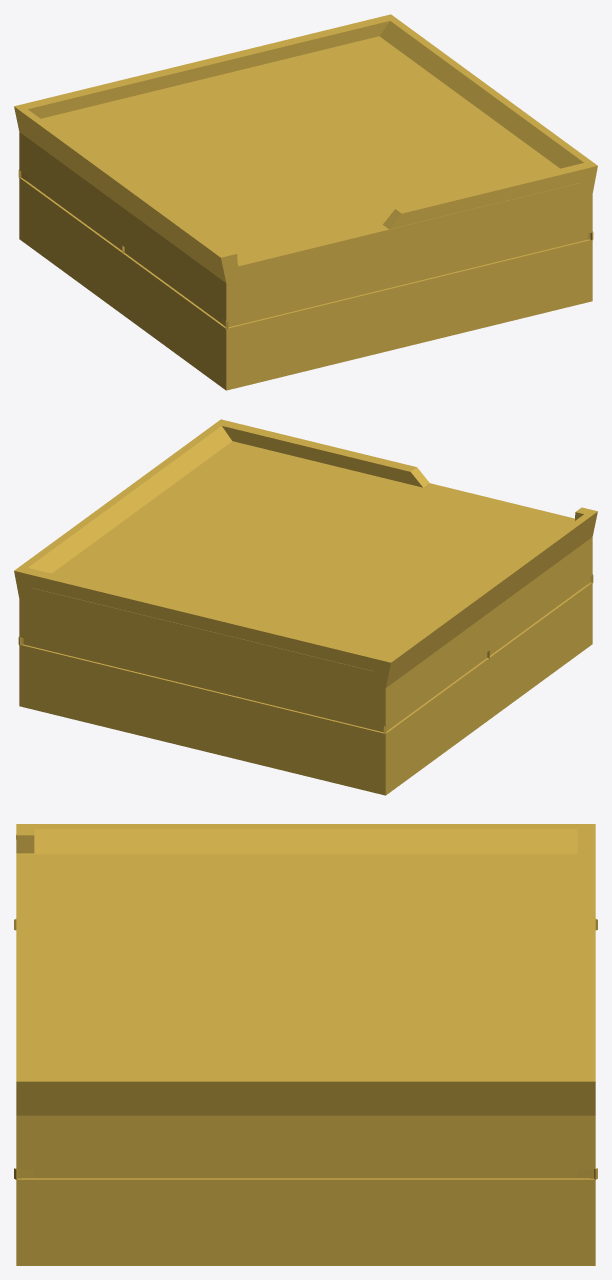
File: platform.glb
The picture shows the model from 3 angles, top to bottom: view 1: azimuth 30°, elevation 25°; view 2: azimuth 150°, elevation 25°; view 3: azimuth 270°, elevation 25°; orthographic projection. The views are drawn at different scales.
Visible parts, largest first — view 1: platform; view 2: platform; view 3: platform.
Boxes of the visible parts, x1,y1,x2,y2 form: platform: (14, 14, 597, 390); platform: (14, 419, 597, 795); platform: (14, 824, 597, 1265).
Size of the model in its own units: 2.94 by 1 by 2.82.
